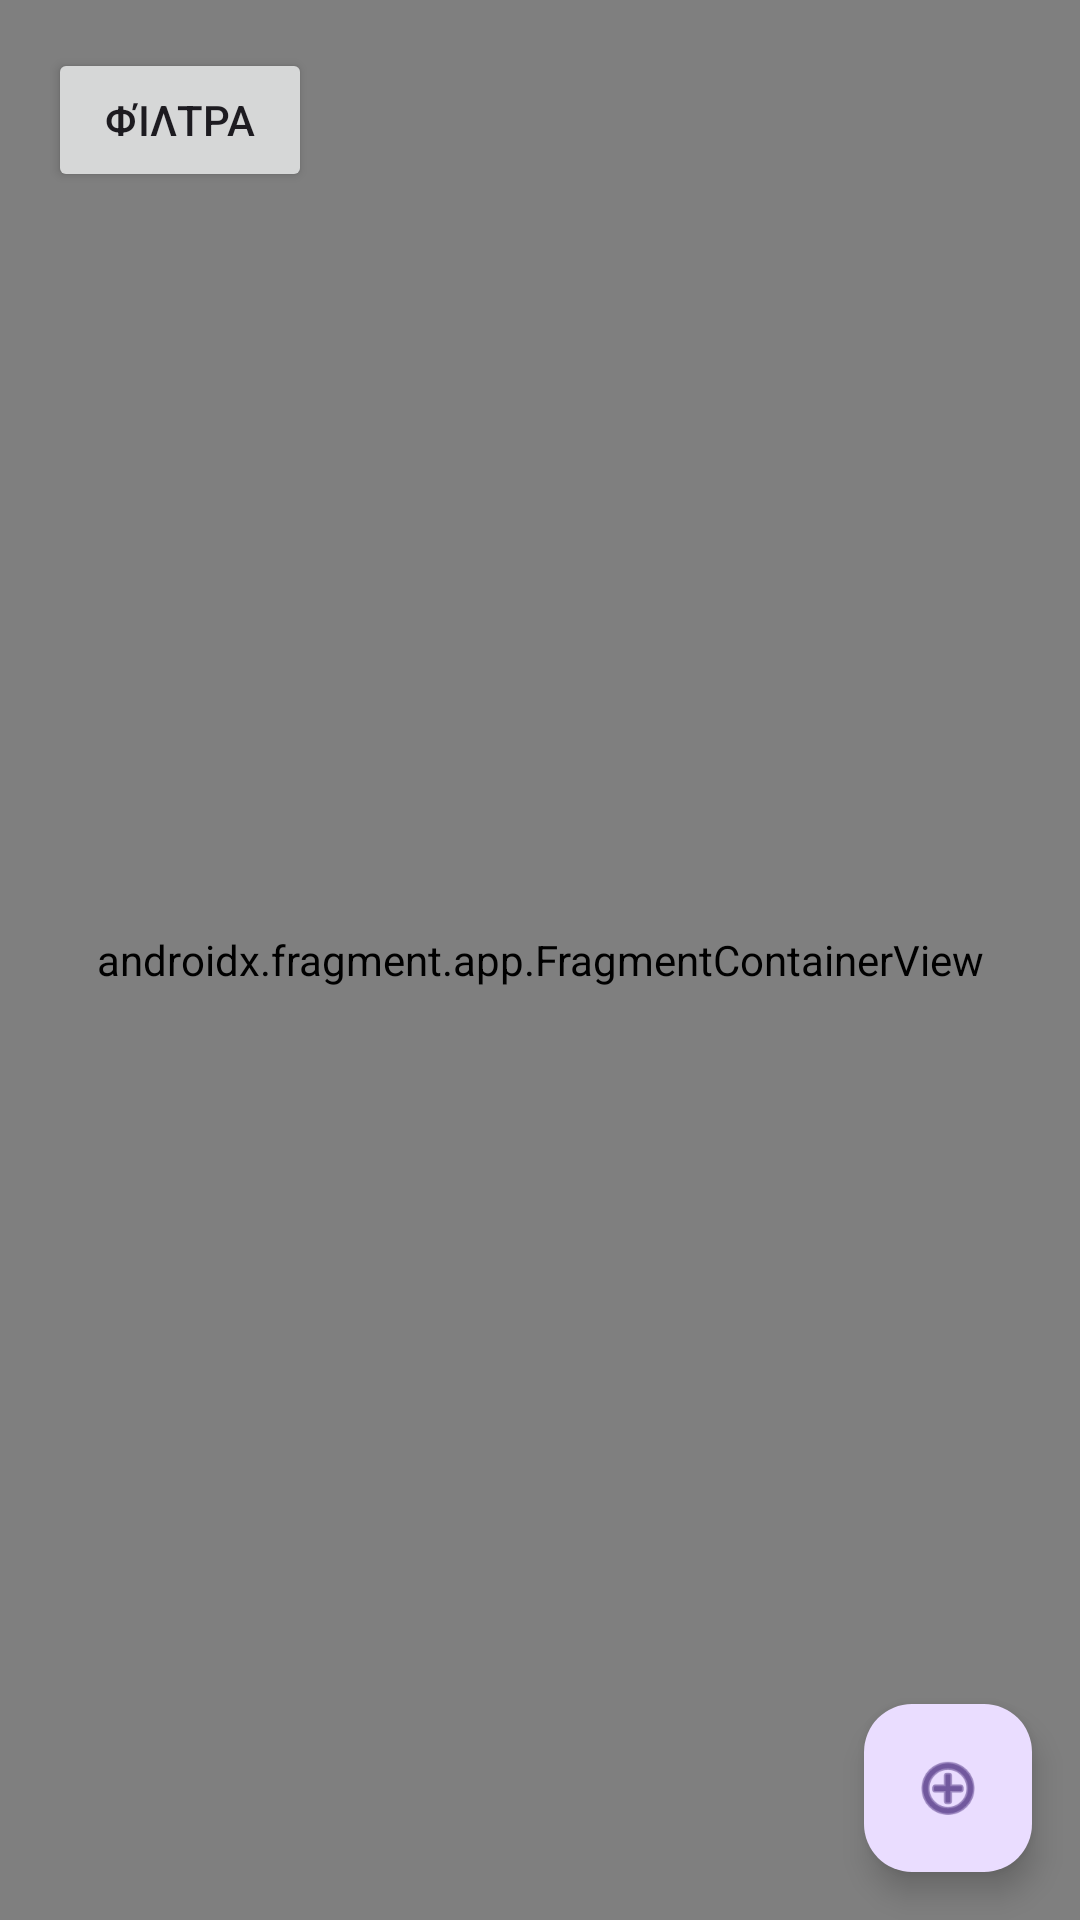

Icons on this 1080x1920 Android screen, each with the point to tap as (x,y):
Προσθήκη: (948,1788)
